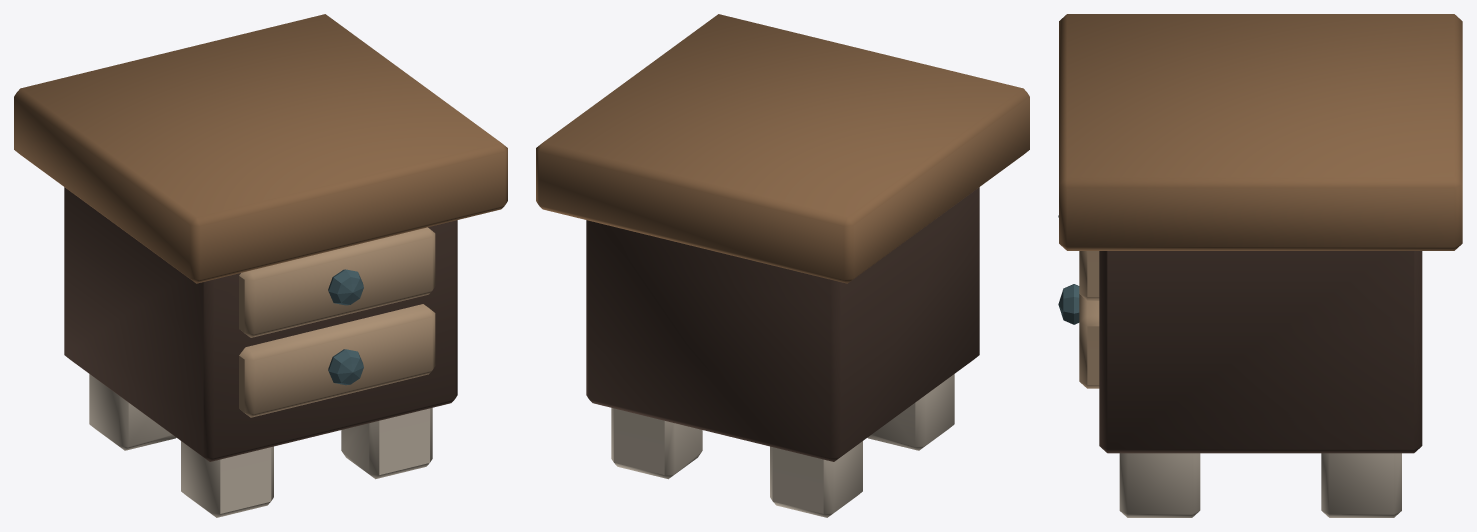
File: cabinet_small.obj
3 views of the same model, side by side, from view 1: azimuth 30°, elevation 25°; view 2: azimuth 150°, elevation 25°; view 3: azimuth 270°, elevation 25° (orthographic). The views are drawn at different scales.
Parts seen in each view (by area): view 1: cabinet_small_Cube.013; view 2: cabinet_small_Cube.013; view 3: cabinet_small_Cube.013.
Part boxes in pixels (x1,y1,x2,y2): cabinet_small_Cube.013: (14,14,507,517); cabinet_small_Cube.013: (536,14,1029,517); cabinet_small_Cube.013: (1058,14,1462,517).
Size of the model in its own units: 1 by 1 by 1.
1 material, 1 textured.
